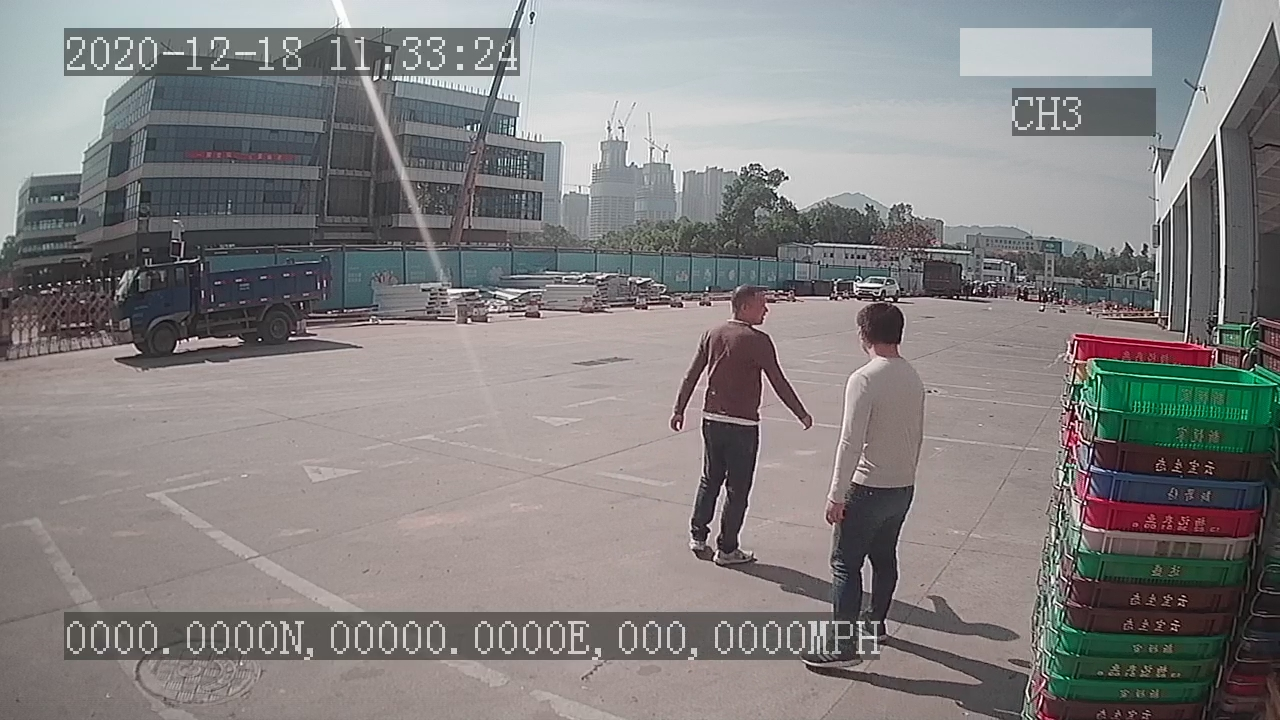person: (669, 279, 815, 567)
